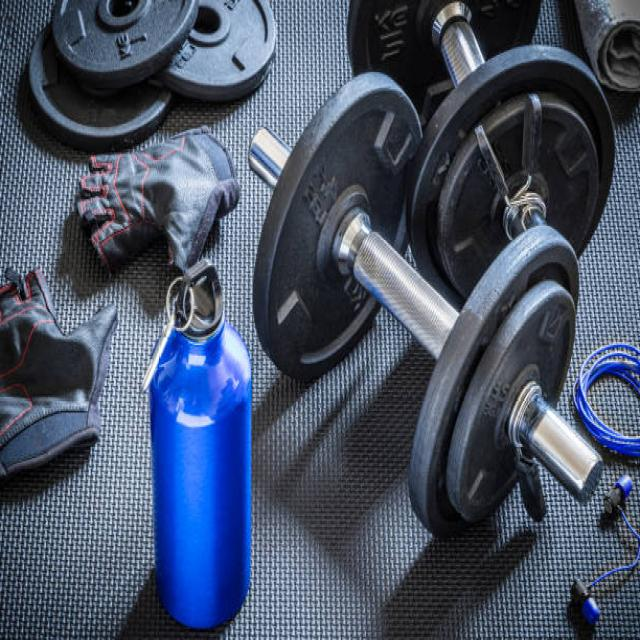blue_bottle: (148, 261, 253, 628)
